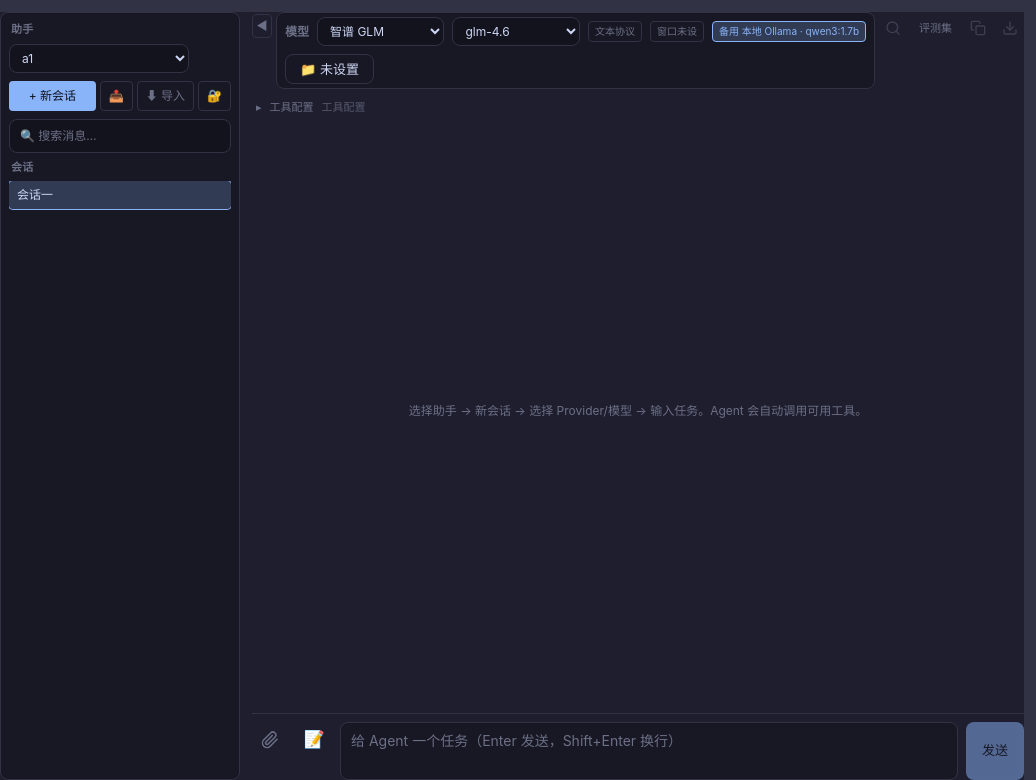
Test: 备用徽标的四张脸 › 设过：徽标同时念出服务商名与模型名（不是 id），点开编辑器草稿已是当前那一对
This screenshot has width=1036, height=780.
Click the button with test id "agent-fallback-badge": point(789, 32) top-left (712, 21), bottom-right (866, 42)
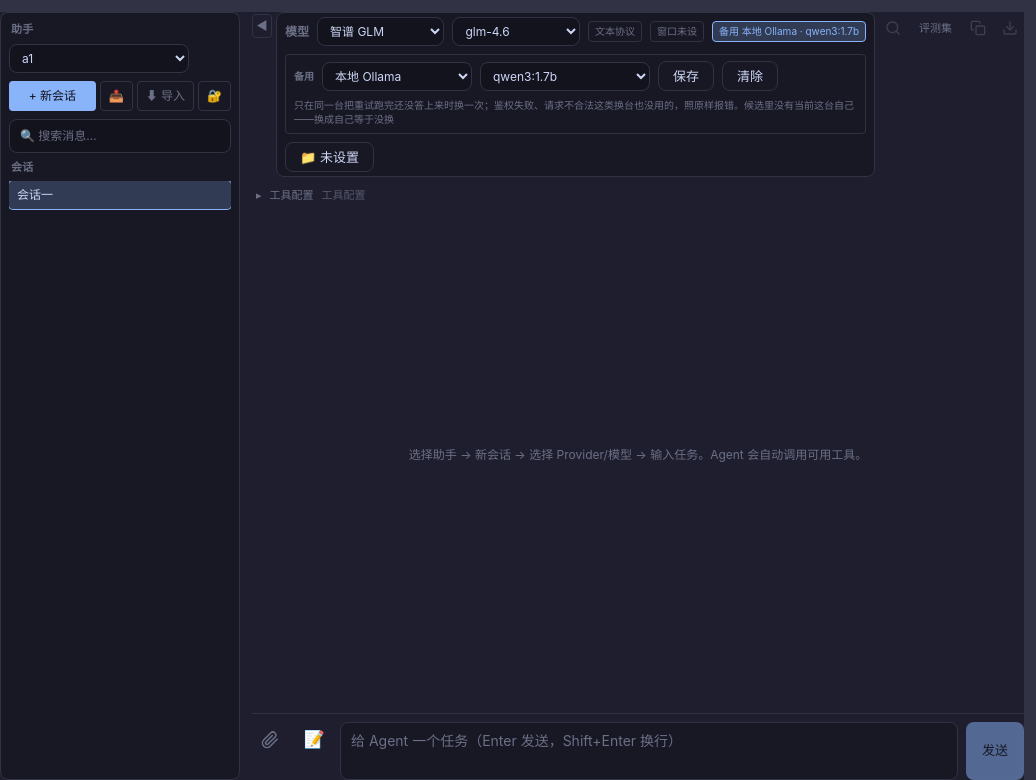
Result: the dropdown named "备用服务商" shows "本地 Ollama" at top-left (322, 62), bottom-right (472, 90)
Result: the dropdown named "备用模型" shows "qwen3:1.7b" at top-left (480, 62), bottom-right (650, 90)
